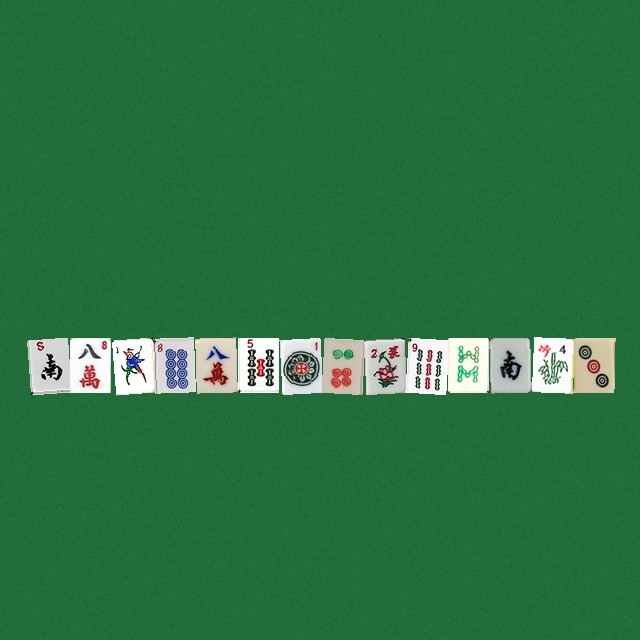tile: (27, 337, 68, 392), (69, 337, 110, 392), (111, 337, 152, 392), (153, 337, 194, 392), (195, 337, 236, 392), (237, 337, 278, 392), (279, 337, 320, 392), (321, 337, 362, 392), (363, 337, 404, 392), (405, 337, 446, 392), (447, 337, 488, 392), (489, 337, 530, 392), (531, 337, 572, 392), (573, 337, 614, 392)
